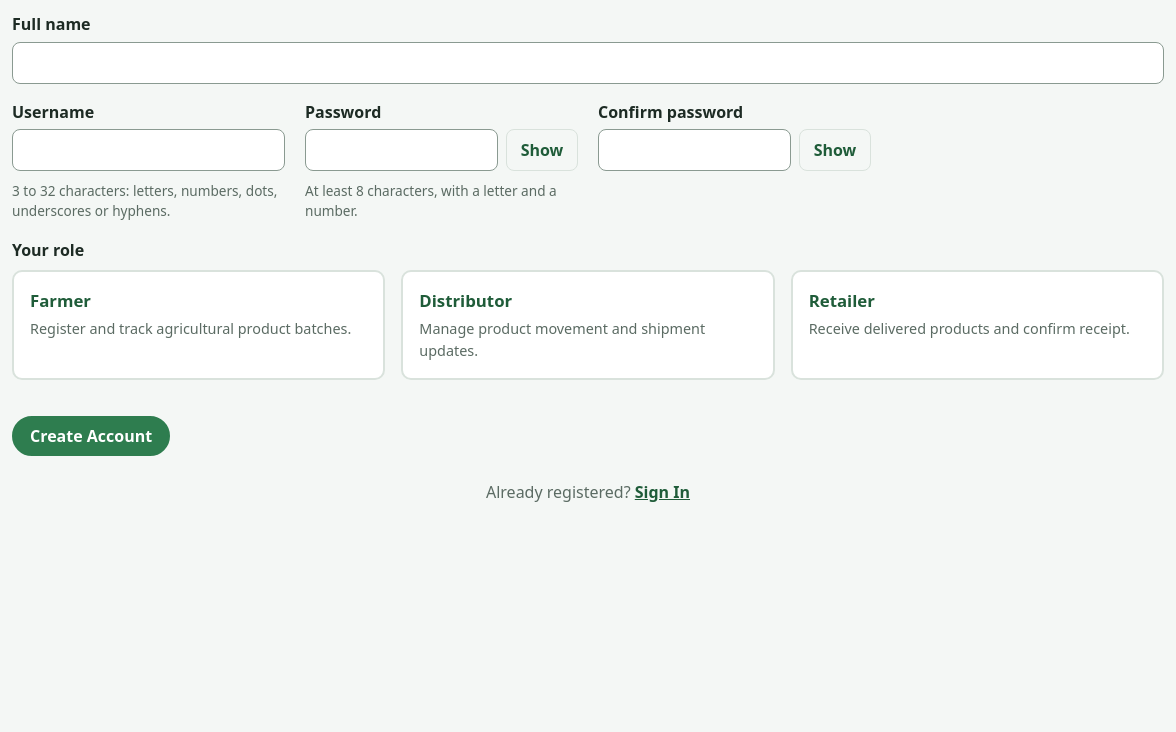
Test case: RegisterForm › shows required-field messages and sends nothing when empty
Click the button "Create Account" at [91, 436], box [12,416,170,456]
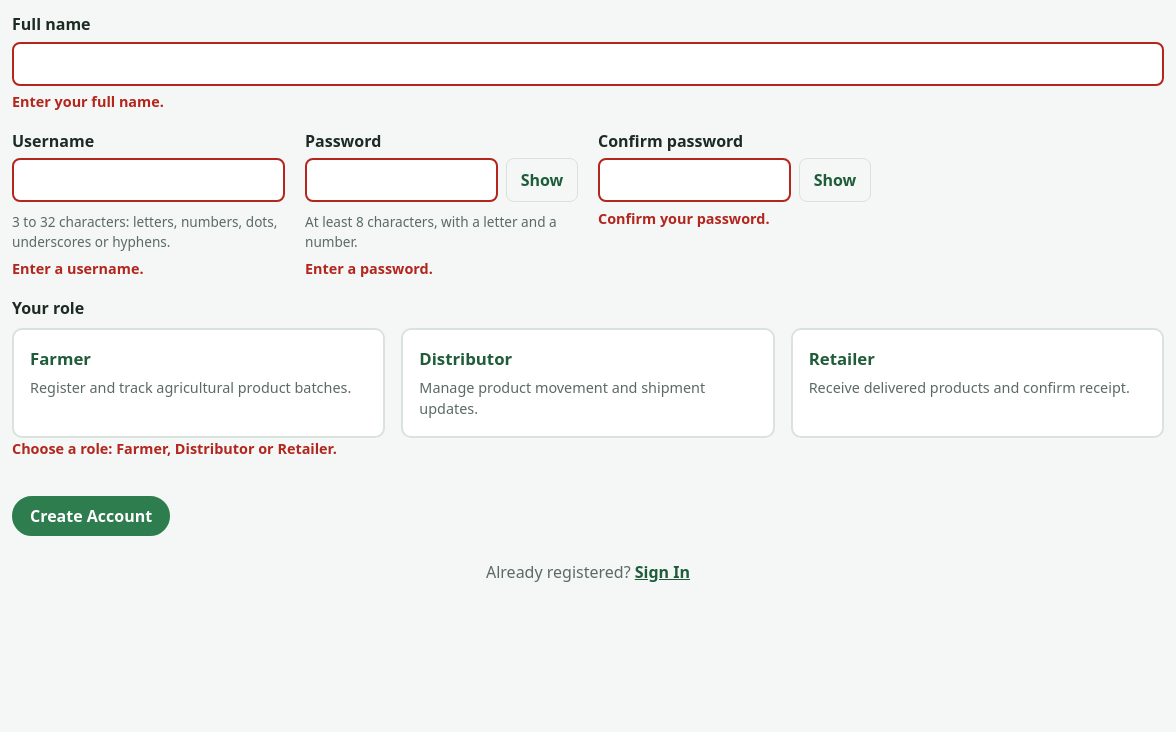
Now the text "Enter your full name." is shown, box [12,92,164,111]
Now the text "Enter a username." is shown, box [12,259,144,278]
Now the text "Enter a password." is shown, box [305,259,433,278]
